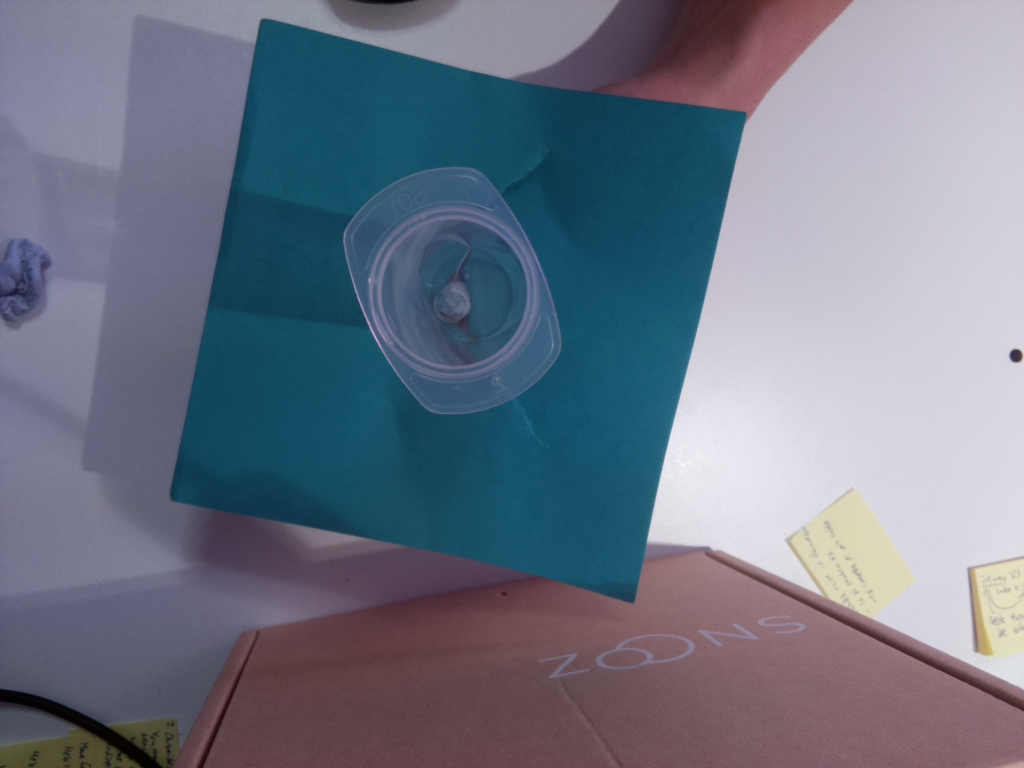clean: (342, 156, 565, 420)
